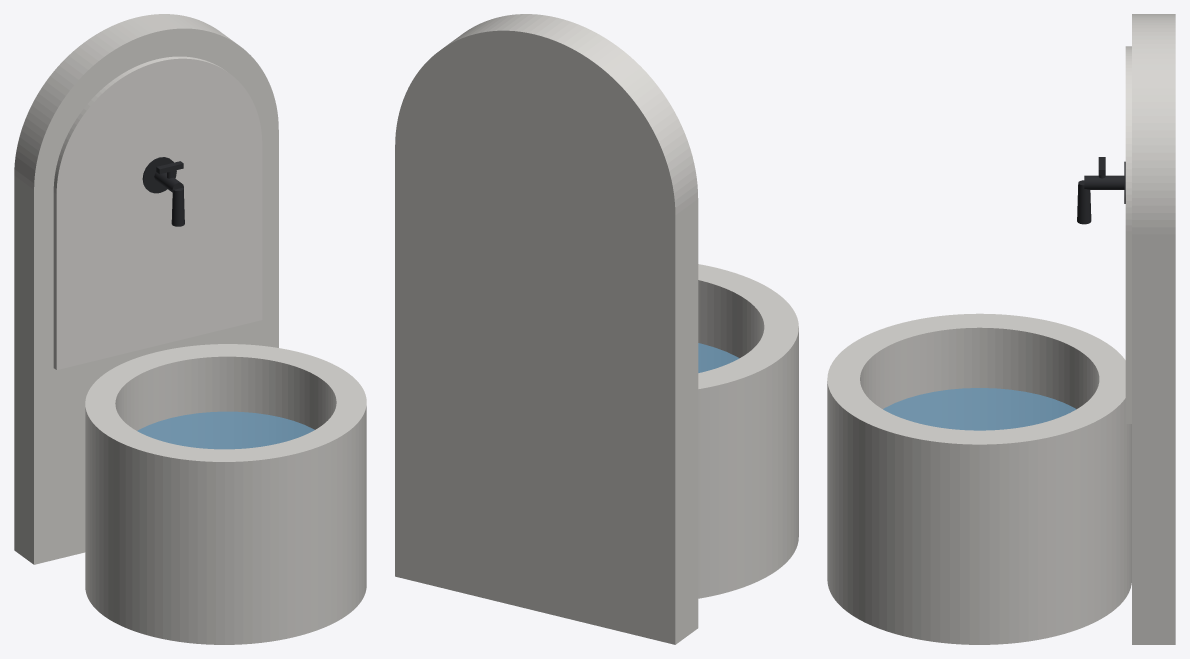
3 renders of one model, left to right at view 1: azimuth 30°, elevation 25°; view 2: azimuth 150°, elevation 25°; view 3: azimuth 270°, elevation 25°, orthographic. The views are drawn at different scales.
Parts seen in each view (by area): view 1: basin-paroi, panel-cadre, panel-arche, eau, robinet-rosace; view 2: panel-arche, basin-paroi, eau; view 3: basin-paroi, panel-arche, eau, panel-cadre, robinet-corps, robinet-bec.
Part boxes in pixels (box(x1,y1,x2,y2)): basin-paroi: box(85, 344, 366, 644); panel-cadre: box(53, 56, 262, 369); panel-arche: box(14, 14, 278, 564); eau: box(137, 411, 314, 449); robinet-rosace: box(142, 157, 176, 193); panel-arche: box(395, 14, 698, 644); basin-paroi: box(698, 264, 798, 598); eau: box(698, 343, 739, 372); basin-paroi: box(827, 313, 1131, 644); panel-arche: box(1132, 14, 1175, 644); eau: box(883, 388, 1076, 430); panel-cadre: box(1125, 46, 1131, 423); robinet-corps: box(1084, 175, 1124, 189); robinet-bec: box(1077, 180, 1091, 224).
Size of the model in its own units: 0.56 by 1.1 by 0.63.
